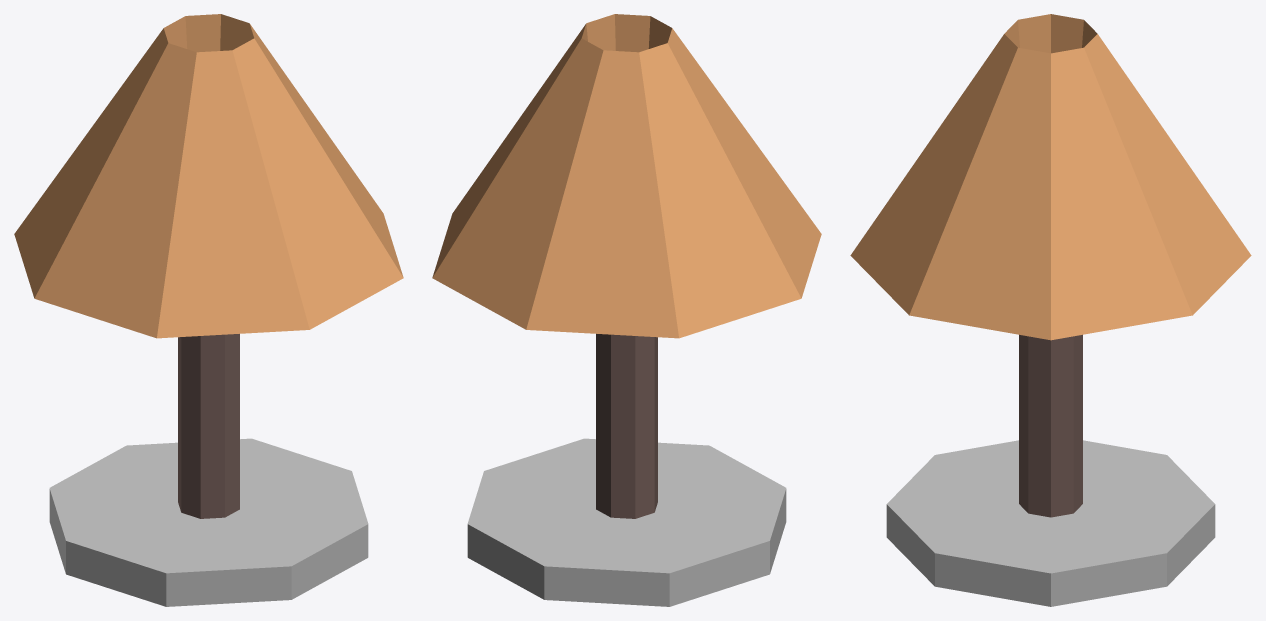
The model's file is otras_cosas1.fbx.
3 renders of one model, left to right at view 1: azimuth 30°, elevation 25°; view 2: azimuth 150°, elevation 25°; view 3: azimuth 270°, elevation 25°, orthographic.
Visible parts, largest first — view 1: Velador; view 2: Velador; view 3: Velador.
Boxes of the visible parts, x1,y1,x2,y2 form: Velador: [14, 14, 403, 606]; Velador: [432, 14, 821, 606]; Velador: [850, 14, 1251, 606].
Size of the model in its own units: 0.6317 by 0.8754 by 0.6317.
